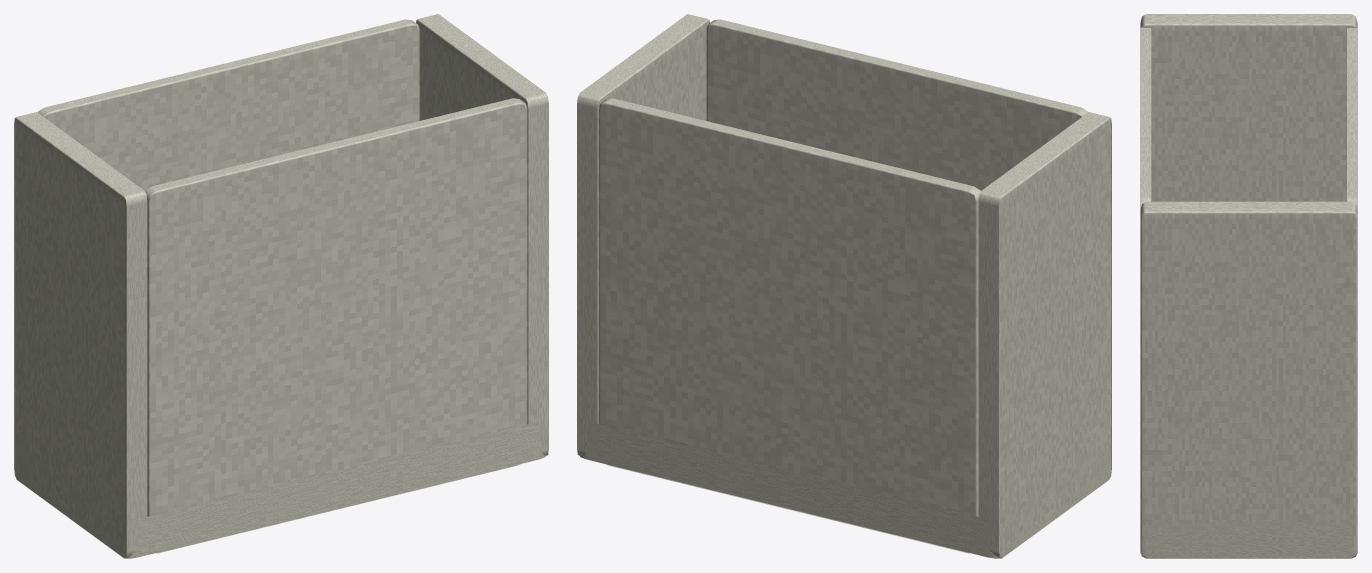
The model's file is niche.glb.
The picture shows the model from 3 angles, left to right: view 1: azimuth 30°, elevation 25°; view 2: azimuth 150°, elevation 25°; view 3: azimuth 270°, elevation 25°; orthographic projection. The views are drawn at different scales.
Parts seen in each view (by area): view 1: edge (×2), side (×2), bottom; view 2: edge (×2), side (×2), bottom; view 3: side (×2), bottom, edge (×2).
Part boxes in pixels (x1,y1,x2,y2): edge (×2): (37, 19, 528, 553); side (×2): (14, 14, 548, 558); bottom: (16, 421, 545, 558); edge (×2): (597, 19, 1088, 553); side (×2): (577, 14, 1111, 558); bottom: (580, 421, 1109, 558); side (×2): (1140, 14, 1357, 558); bottom: (1140, 522, 1357, 558); edge (×2): (1140, 27, 1357, 209).
Bounding box in the file's own units: 0.28 × 0.23 × 0.13.
1 material, 1 textured.
